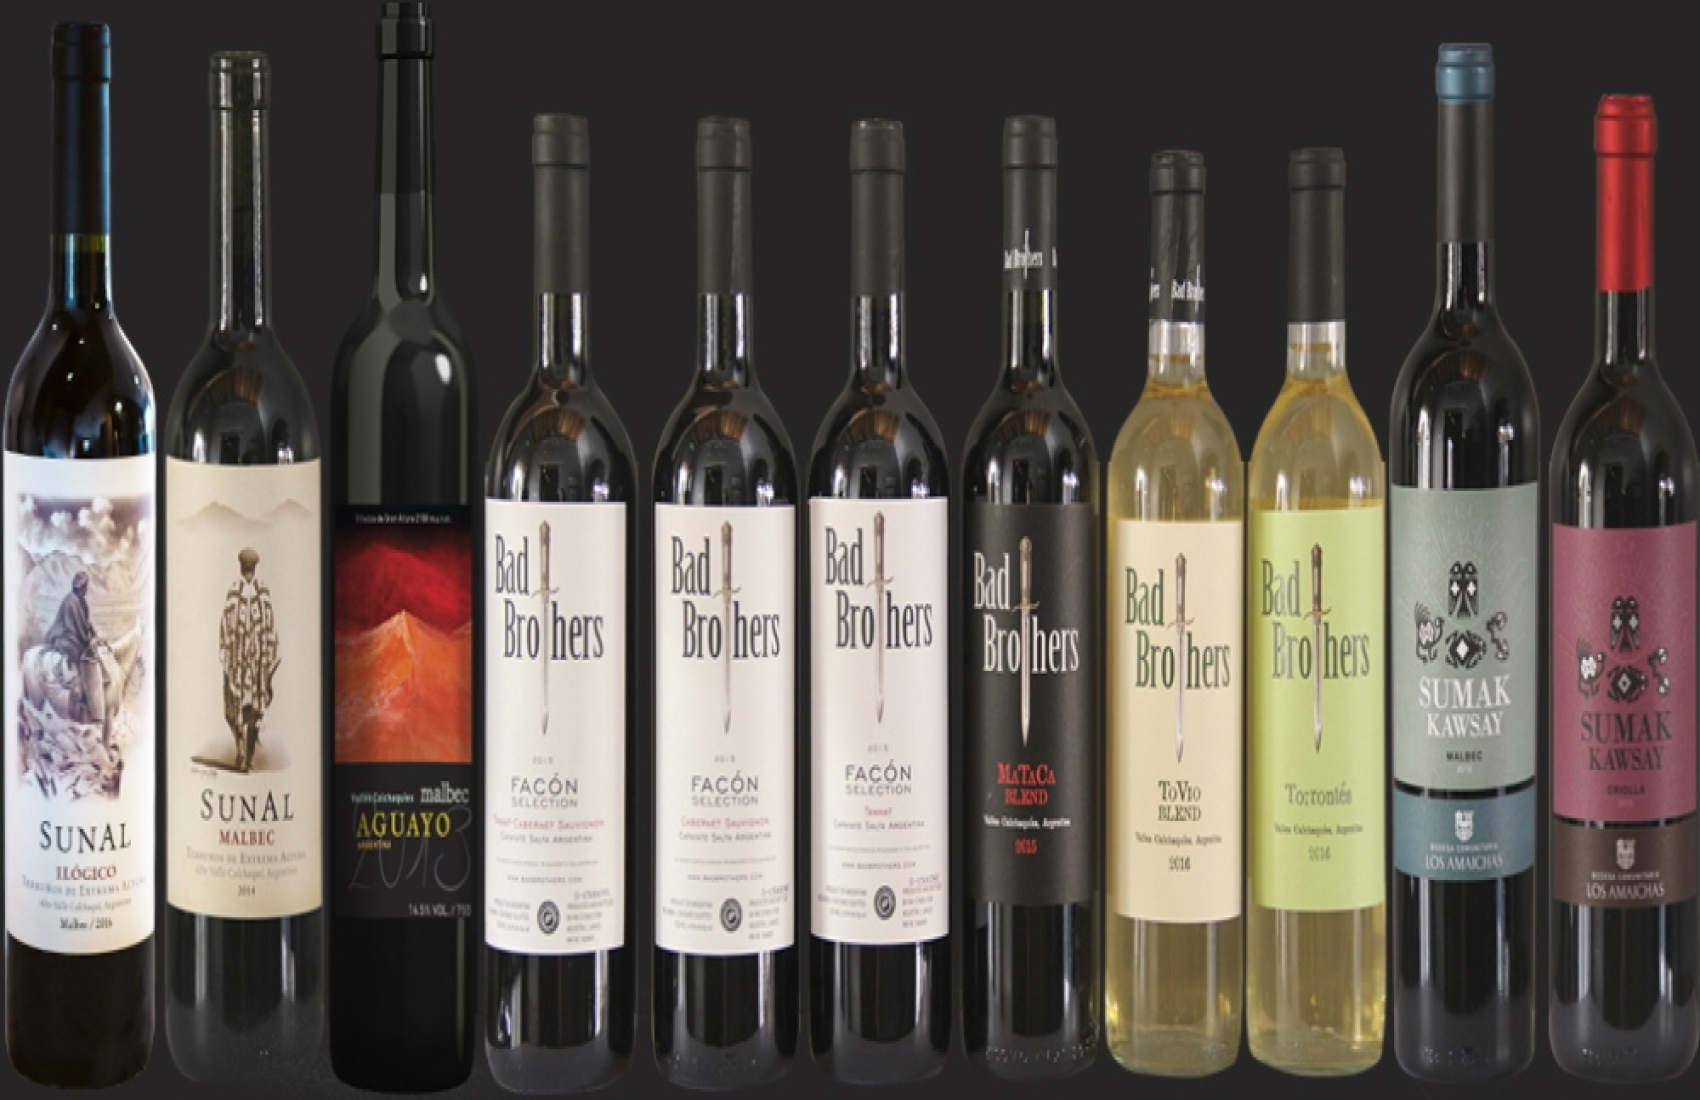wine: (1253, 35, 1396, 1076), (1391, 37, 1535, 1078), (1544, 26, 1688, 1067), (2, 27, 146, 1068), (322, 40, 465, 1081), (815, 25, 958, 1067), (957, 28, 1099, 1070), (475, 33, 617, 1074), (654, 28, 797, 1069), (1105, 38, 1248, 1079), (169, 12, 311, 1053)
